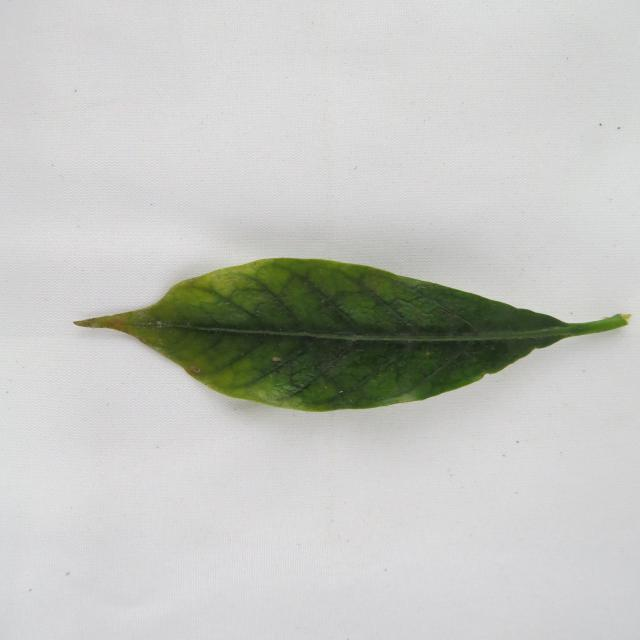DeficienciaNutricional-Magnesio: (75, 259, 628, 411)
